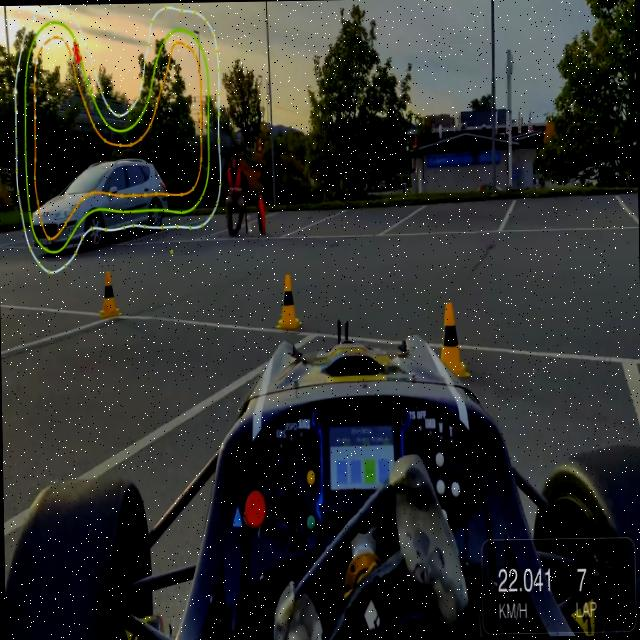yellow_cone: (429, 296, 472, 388), (274, 277, 304, 332), (96, 268, 124, 317)
